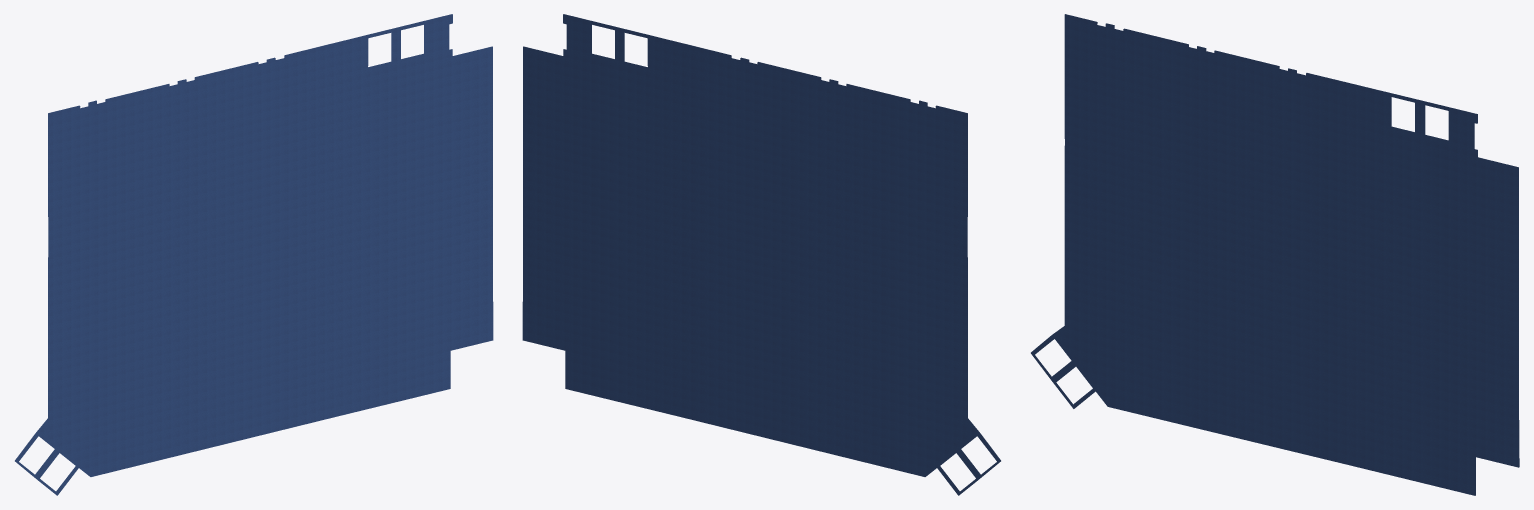
The model's file is floor_1.obj.
The picture shows the model from 3 angles, left to right: view 1: azimuth 30°, elevation 25°; view 2: azimuth 150°, elevation 25°; view 3: azimuth 330°, elevation 25°; orthographic projection. The views are drawn at different scales.
Parts seen in each view (by area): view 1: floor_1; view 2: floor_1; view 3: floor_1.
Boxes of the visible parts, <box> form: floor_1: <box>15,14,493,495</box>; floor_1: <box>522,14,1000,495</box>; floor_1: <box>1031,14,1519,495</box>.
Bounding box in the file's own units: 52.83 × 40.67 × 0.1.
